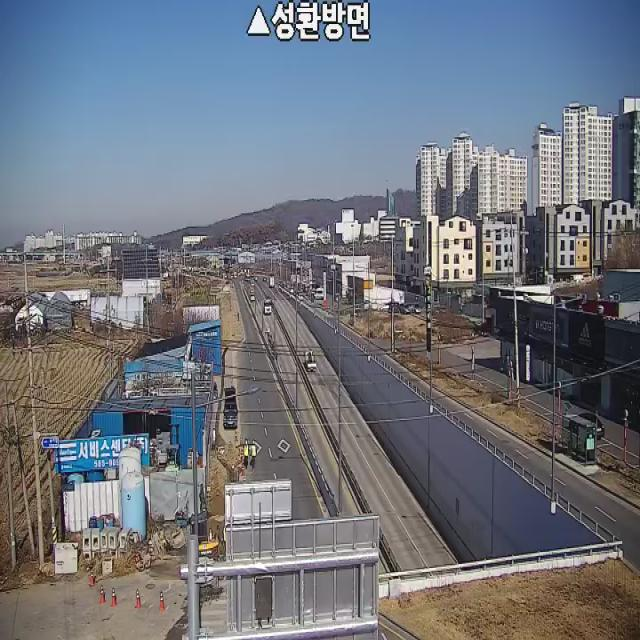Car: (573, 411, 604, 441)
Truck: (180, 493, 232, 602), (223, 388, 237, 428), (304, 349, 318, 372), (264, 297, 272, 314)
